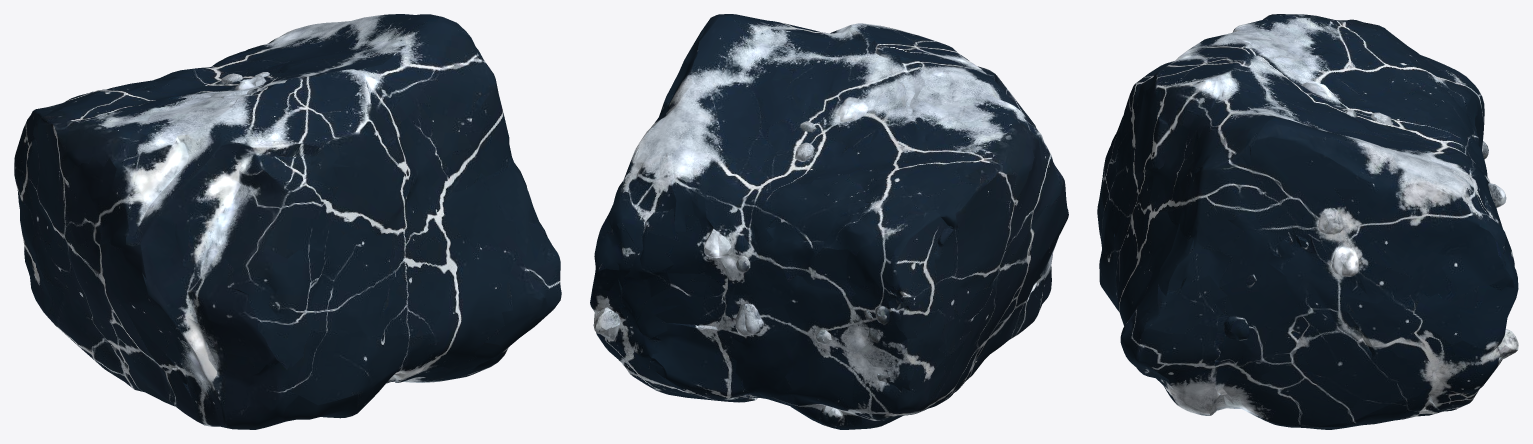
File: min4-silver_ore-final.glb
3 views of the same model, side by side, from view 1: azimuth 30°, elevation 25°; view 2: azimuth 150°, elevation 25°; view 3: azimuth 270°, elevation 25° (orthographic). The views are drawn at different scales.
Parts seen in each view (by area): view 1: Mesh_0; view 2: Mesh_0; view 3: Mesh_0.
Boxes of the visible parts, box(x1,y1,x2,y2) form: Mesh_0: box(14, 14, 561, 429); Mesh_0: box(590, 14, 1068, 429); Mesh_0: box(1097, 14, 1518, 429).
Size of the model in its own units: 0.3638 by 0.3 by 0.3633.
Materials: 1 (1 with a texture image).
